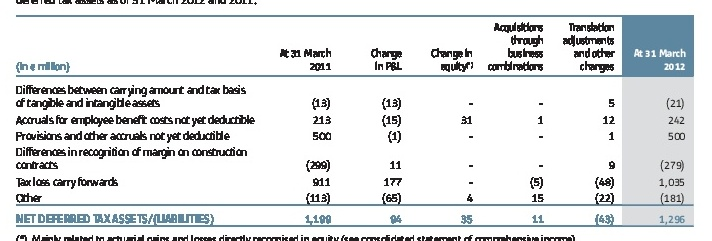table: (0, 0, 712, 241)
